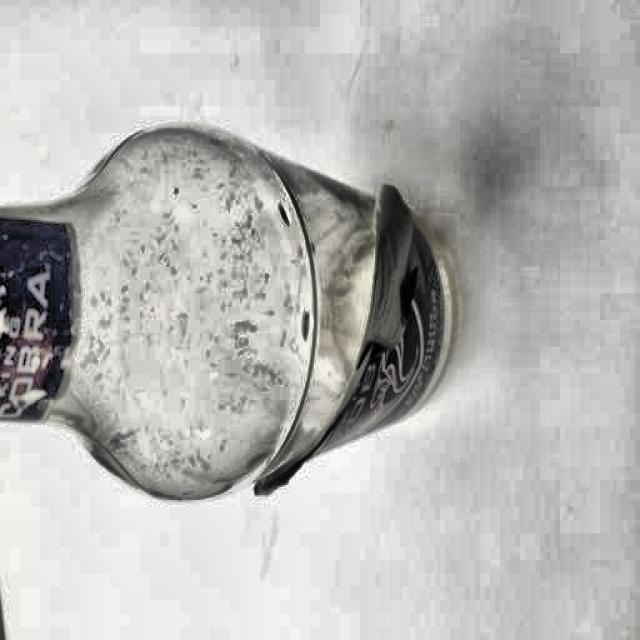glass: (0, 122, 461, 505)
